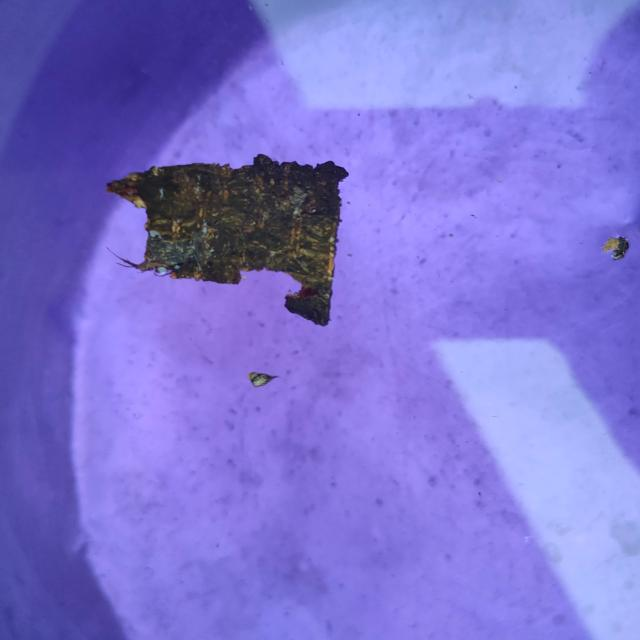wood: (99, 124, 374, 343)
